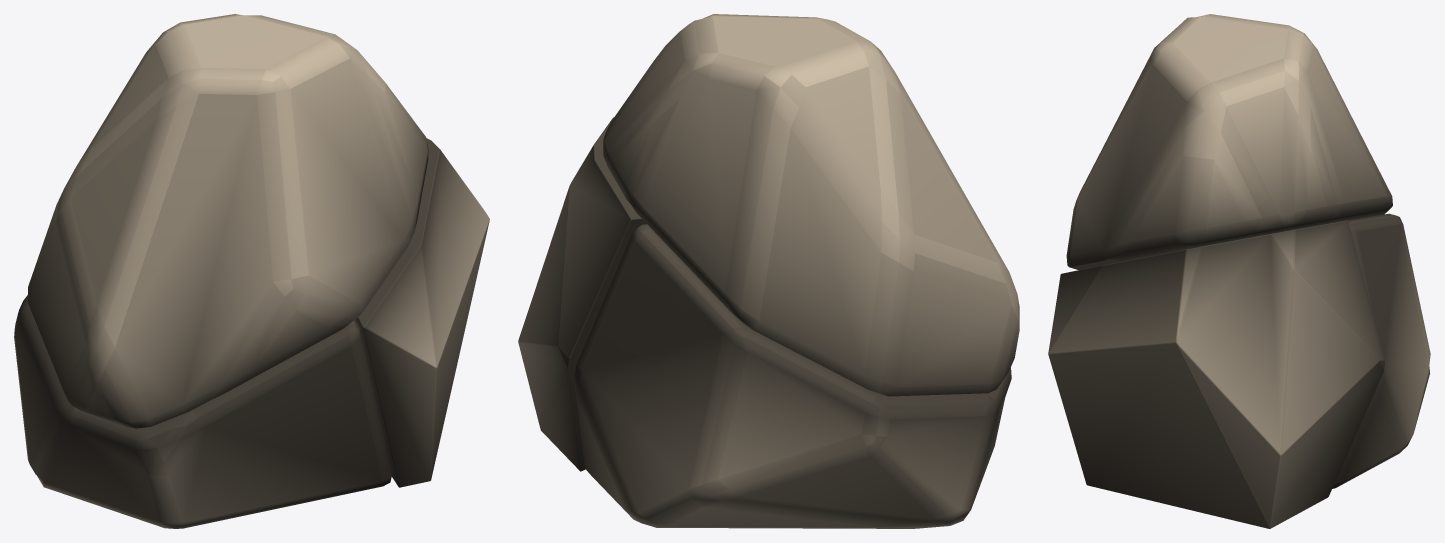
Rendered from rock_05.glb.
3 renders of one model, left to right at view 1: azimuth 30°, elevation 25°; view 2: azimuth 150°, elevation 25°; view 3: azimuth 270°, elevation 25°, orthographic. The views are drawn at different scales.
Visible parts, largest first — view 1: rock_05; view 2: rock_05; view 3: rock_05.
Part boxes in pixels (<box>): rock_05: <box>14,14,489,528</box>; rock_05: <box>518,14,1019,528</box>; rock_05: <box>1048,14,1430,528</box>.
Bounding box in the file's own units: 0.74 × 0.7 × 0.62.
